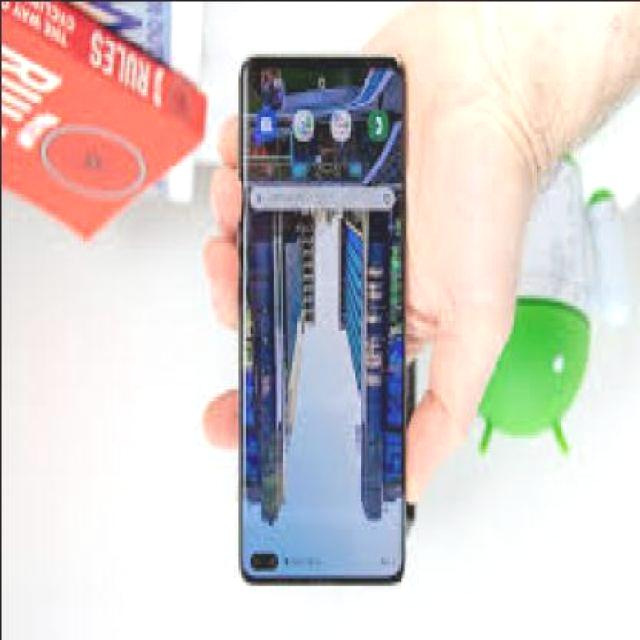phone: (237, 49, 408, 588)
